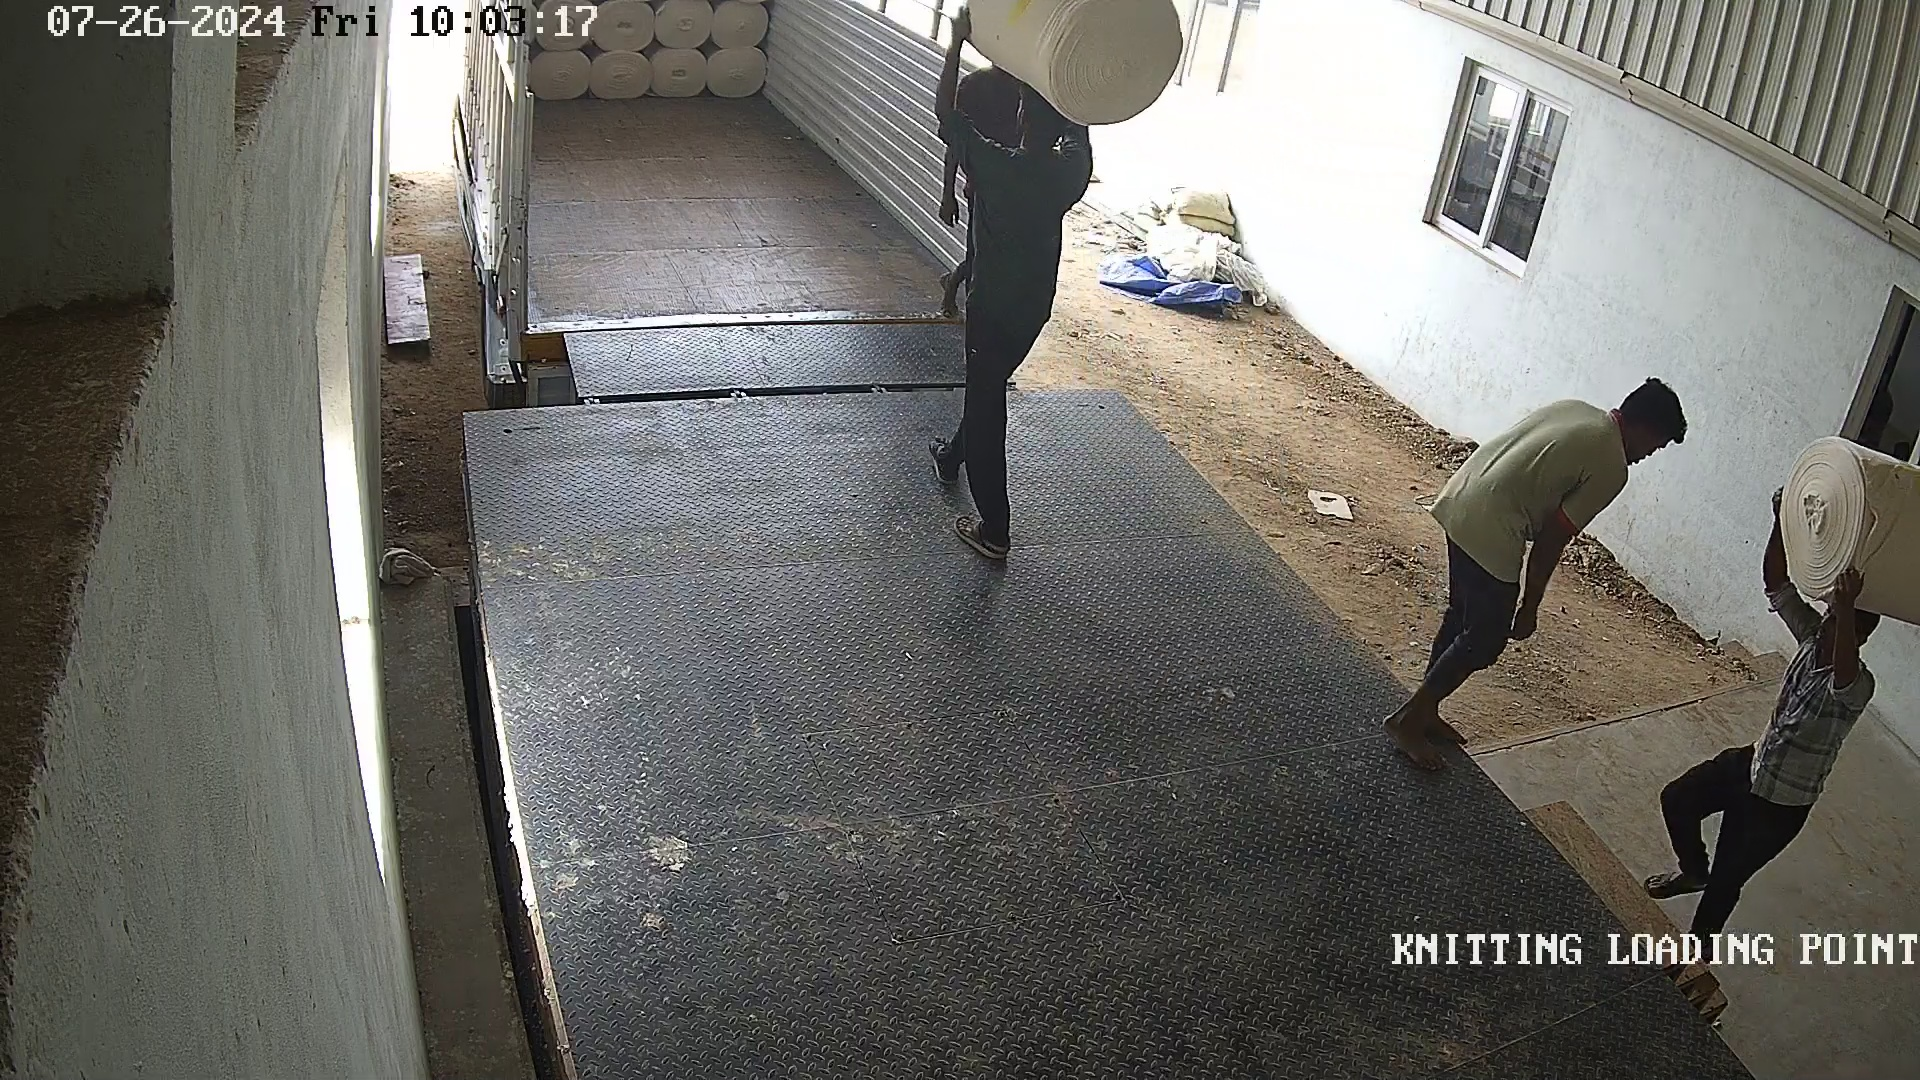bag: (936, 1, 1203, 127)
